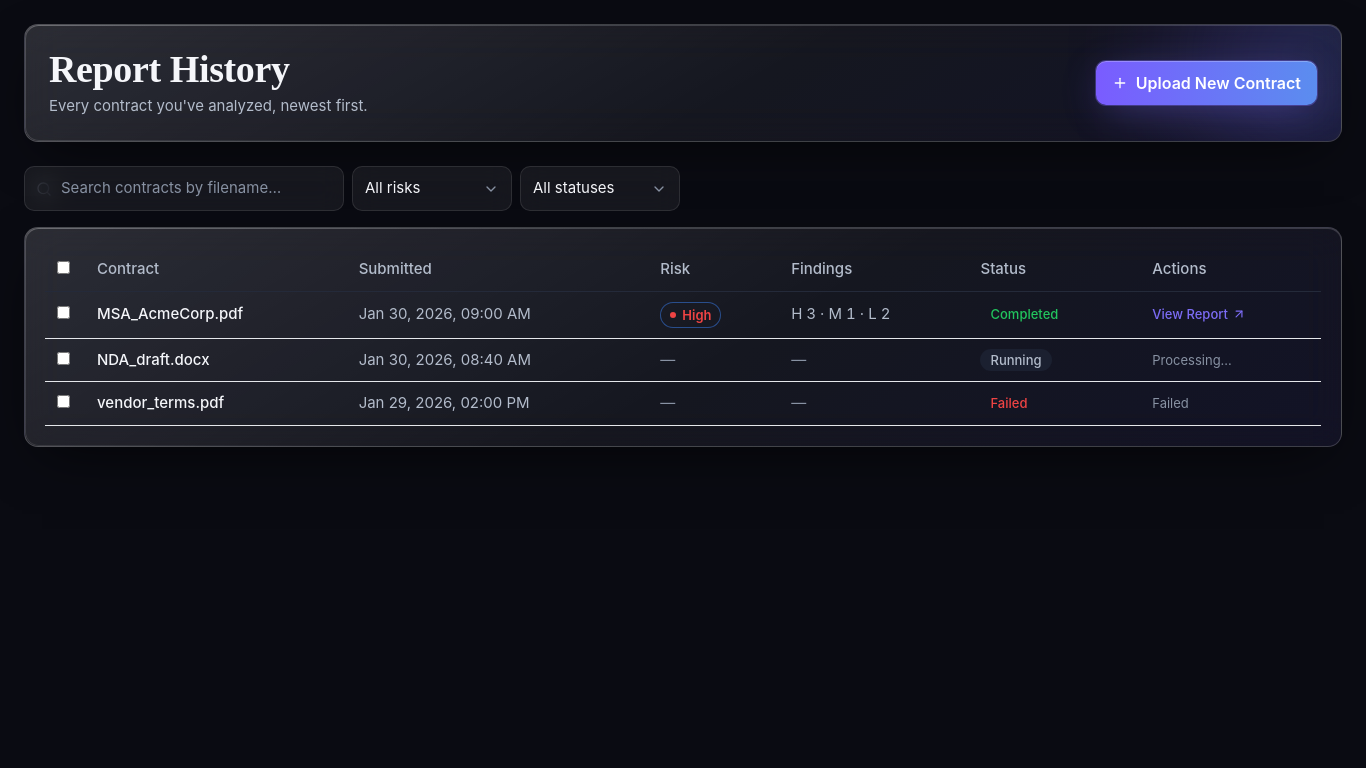
Test case: ReportHistoryView (spec 021) › AC-5: open filter menu closes on Escape and on outside pointer-down
This screenshot has width=1366, height=768.
Expected: the link "MSA_AcmeCorp.pdf" is shown, x1=97 y1=304 x2=243 y2=323
Click the button with aria-label "filter by risk": (432, 189) x1=352 y1=166 x2=512 y2=211
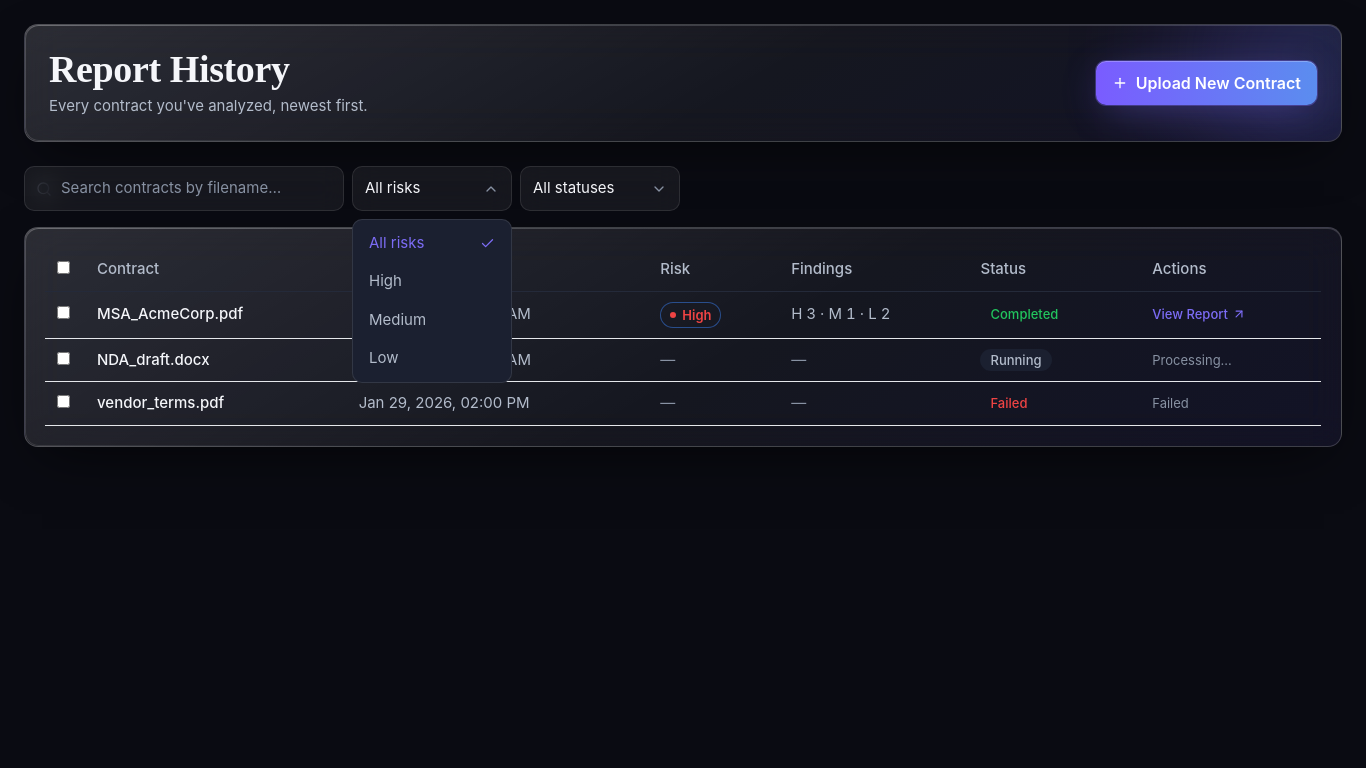
Result: the list is shown at x1=352 y1=219 x2=512 y2=383
Press Escape
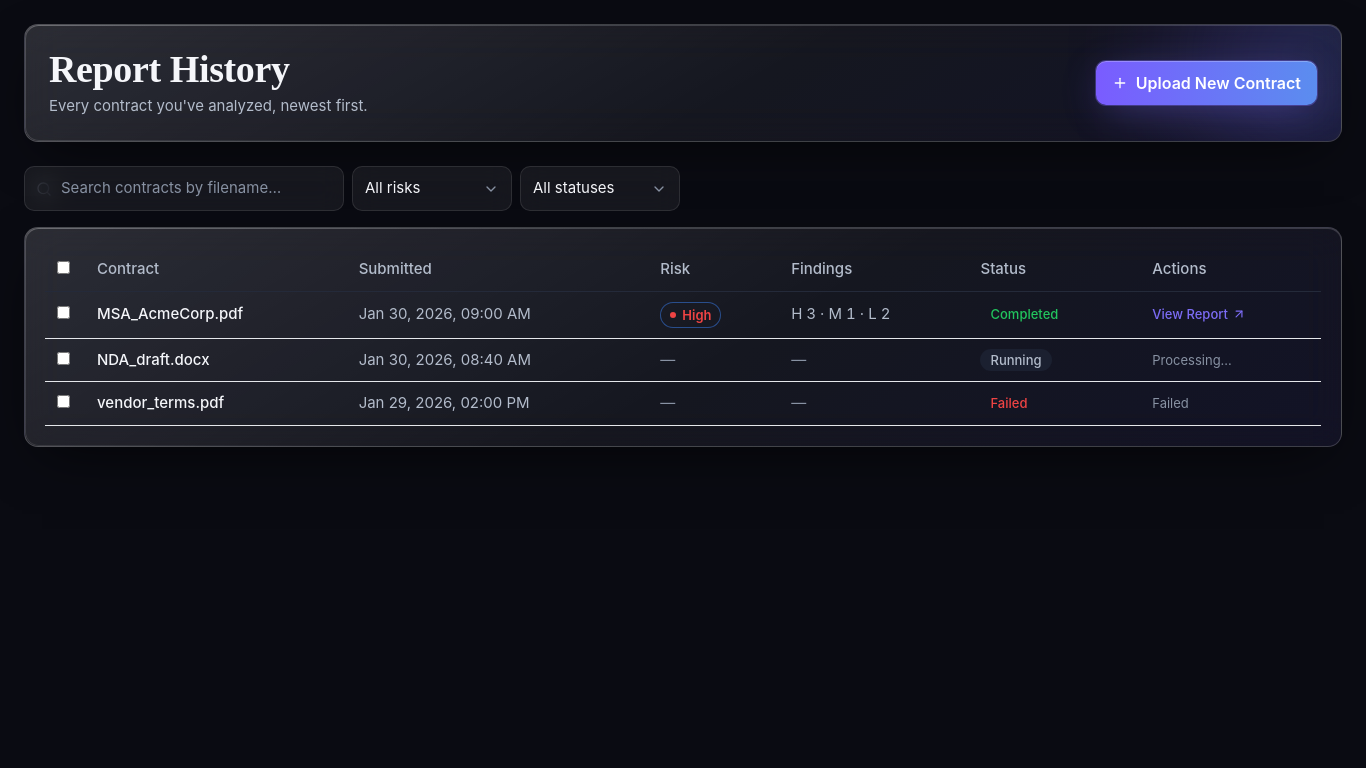
Result: the list is gone
Note: Outside pointer-down closes it too (the component listens on `pointerdown`).
Click the button with aria-label "filter by status": (600, 189) x1=520 y1=166 x2=680 y2=211
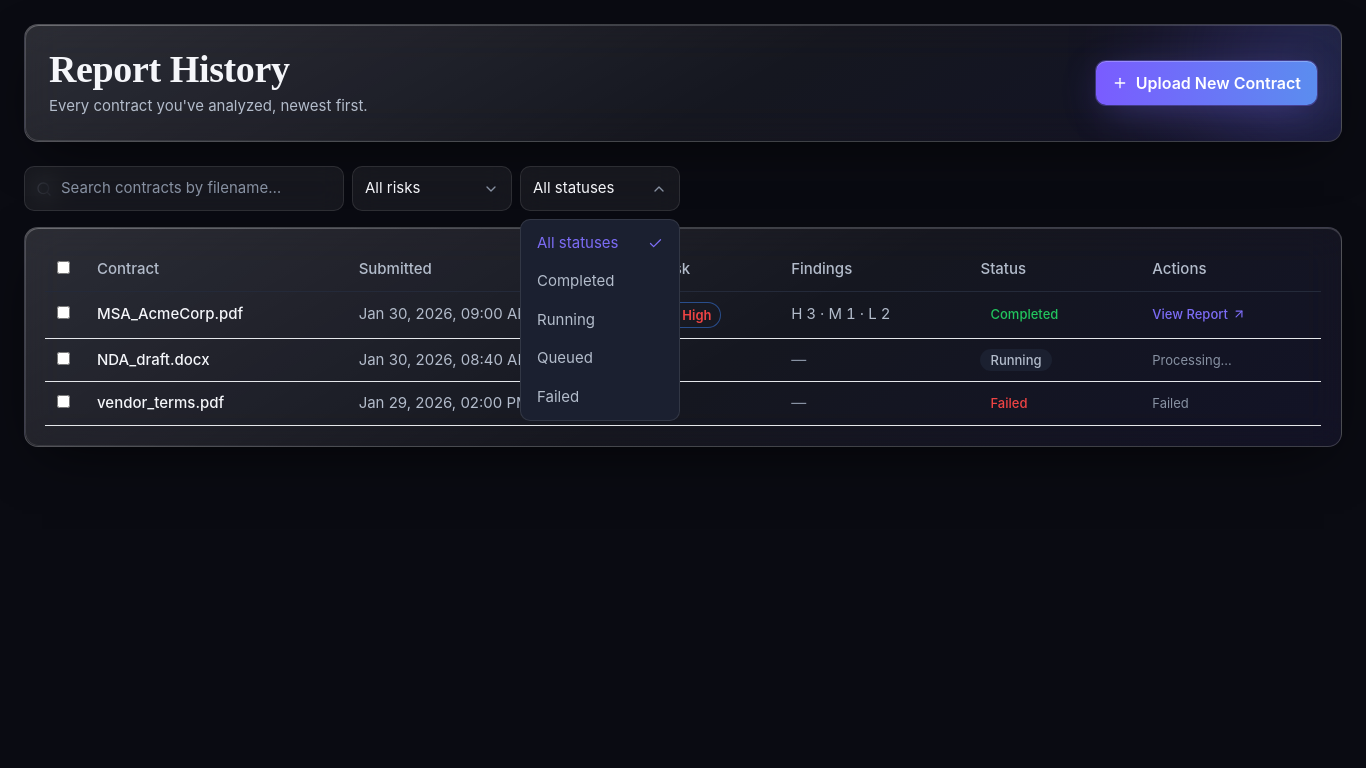
Result: the list is shown at x1=520 y1=219 x2=680 y2=421
Press the mouse on the element that starts with "Report History": (683, 384) x1=0 y1=0 x2=1365 y2=767
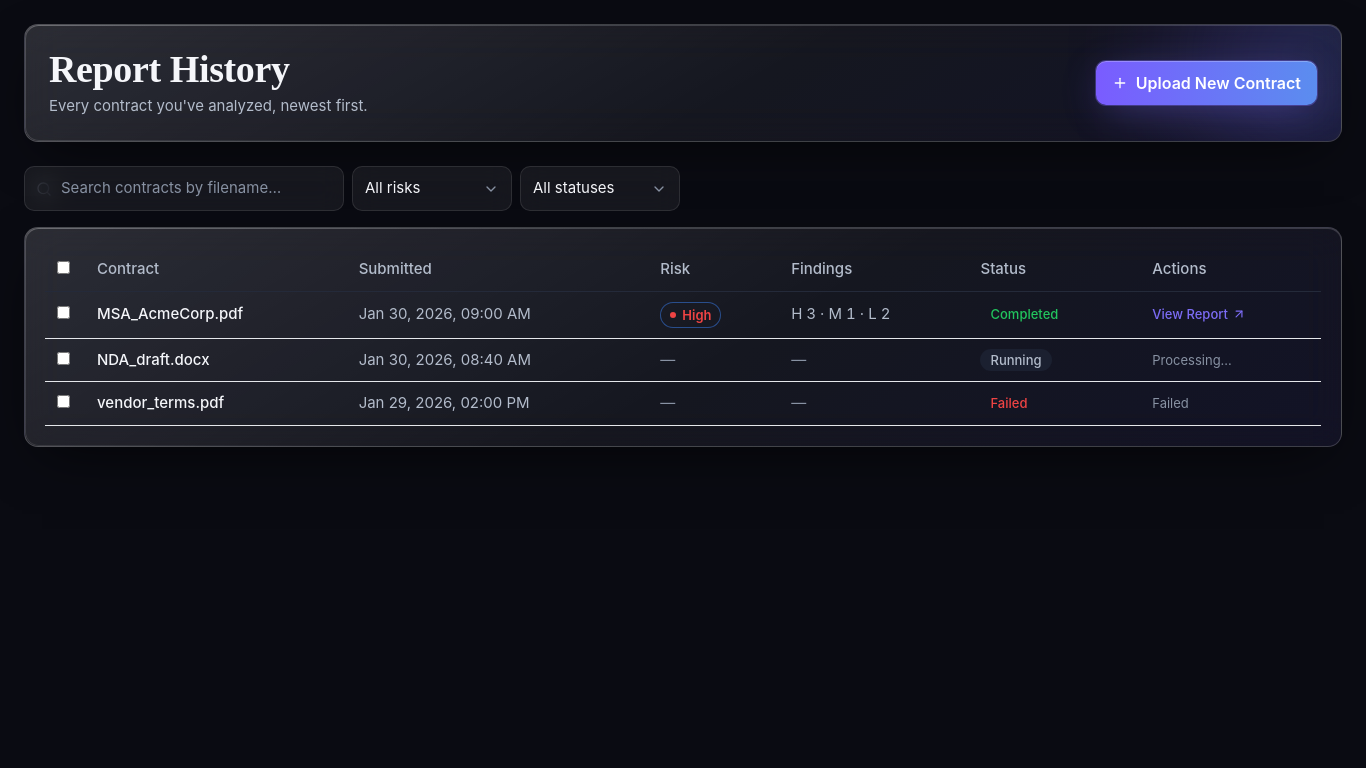
Result: the list is gone
